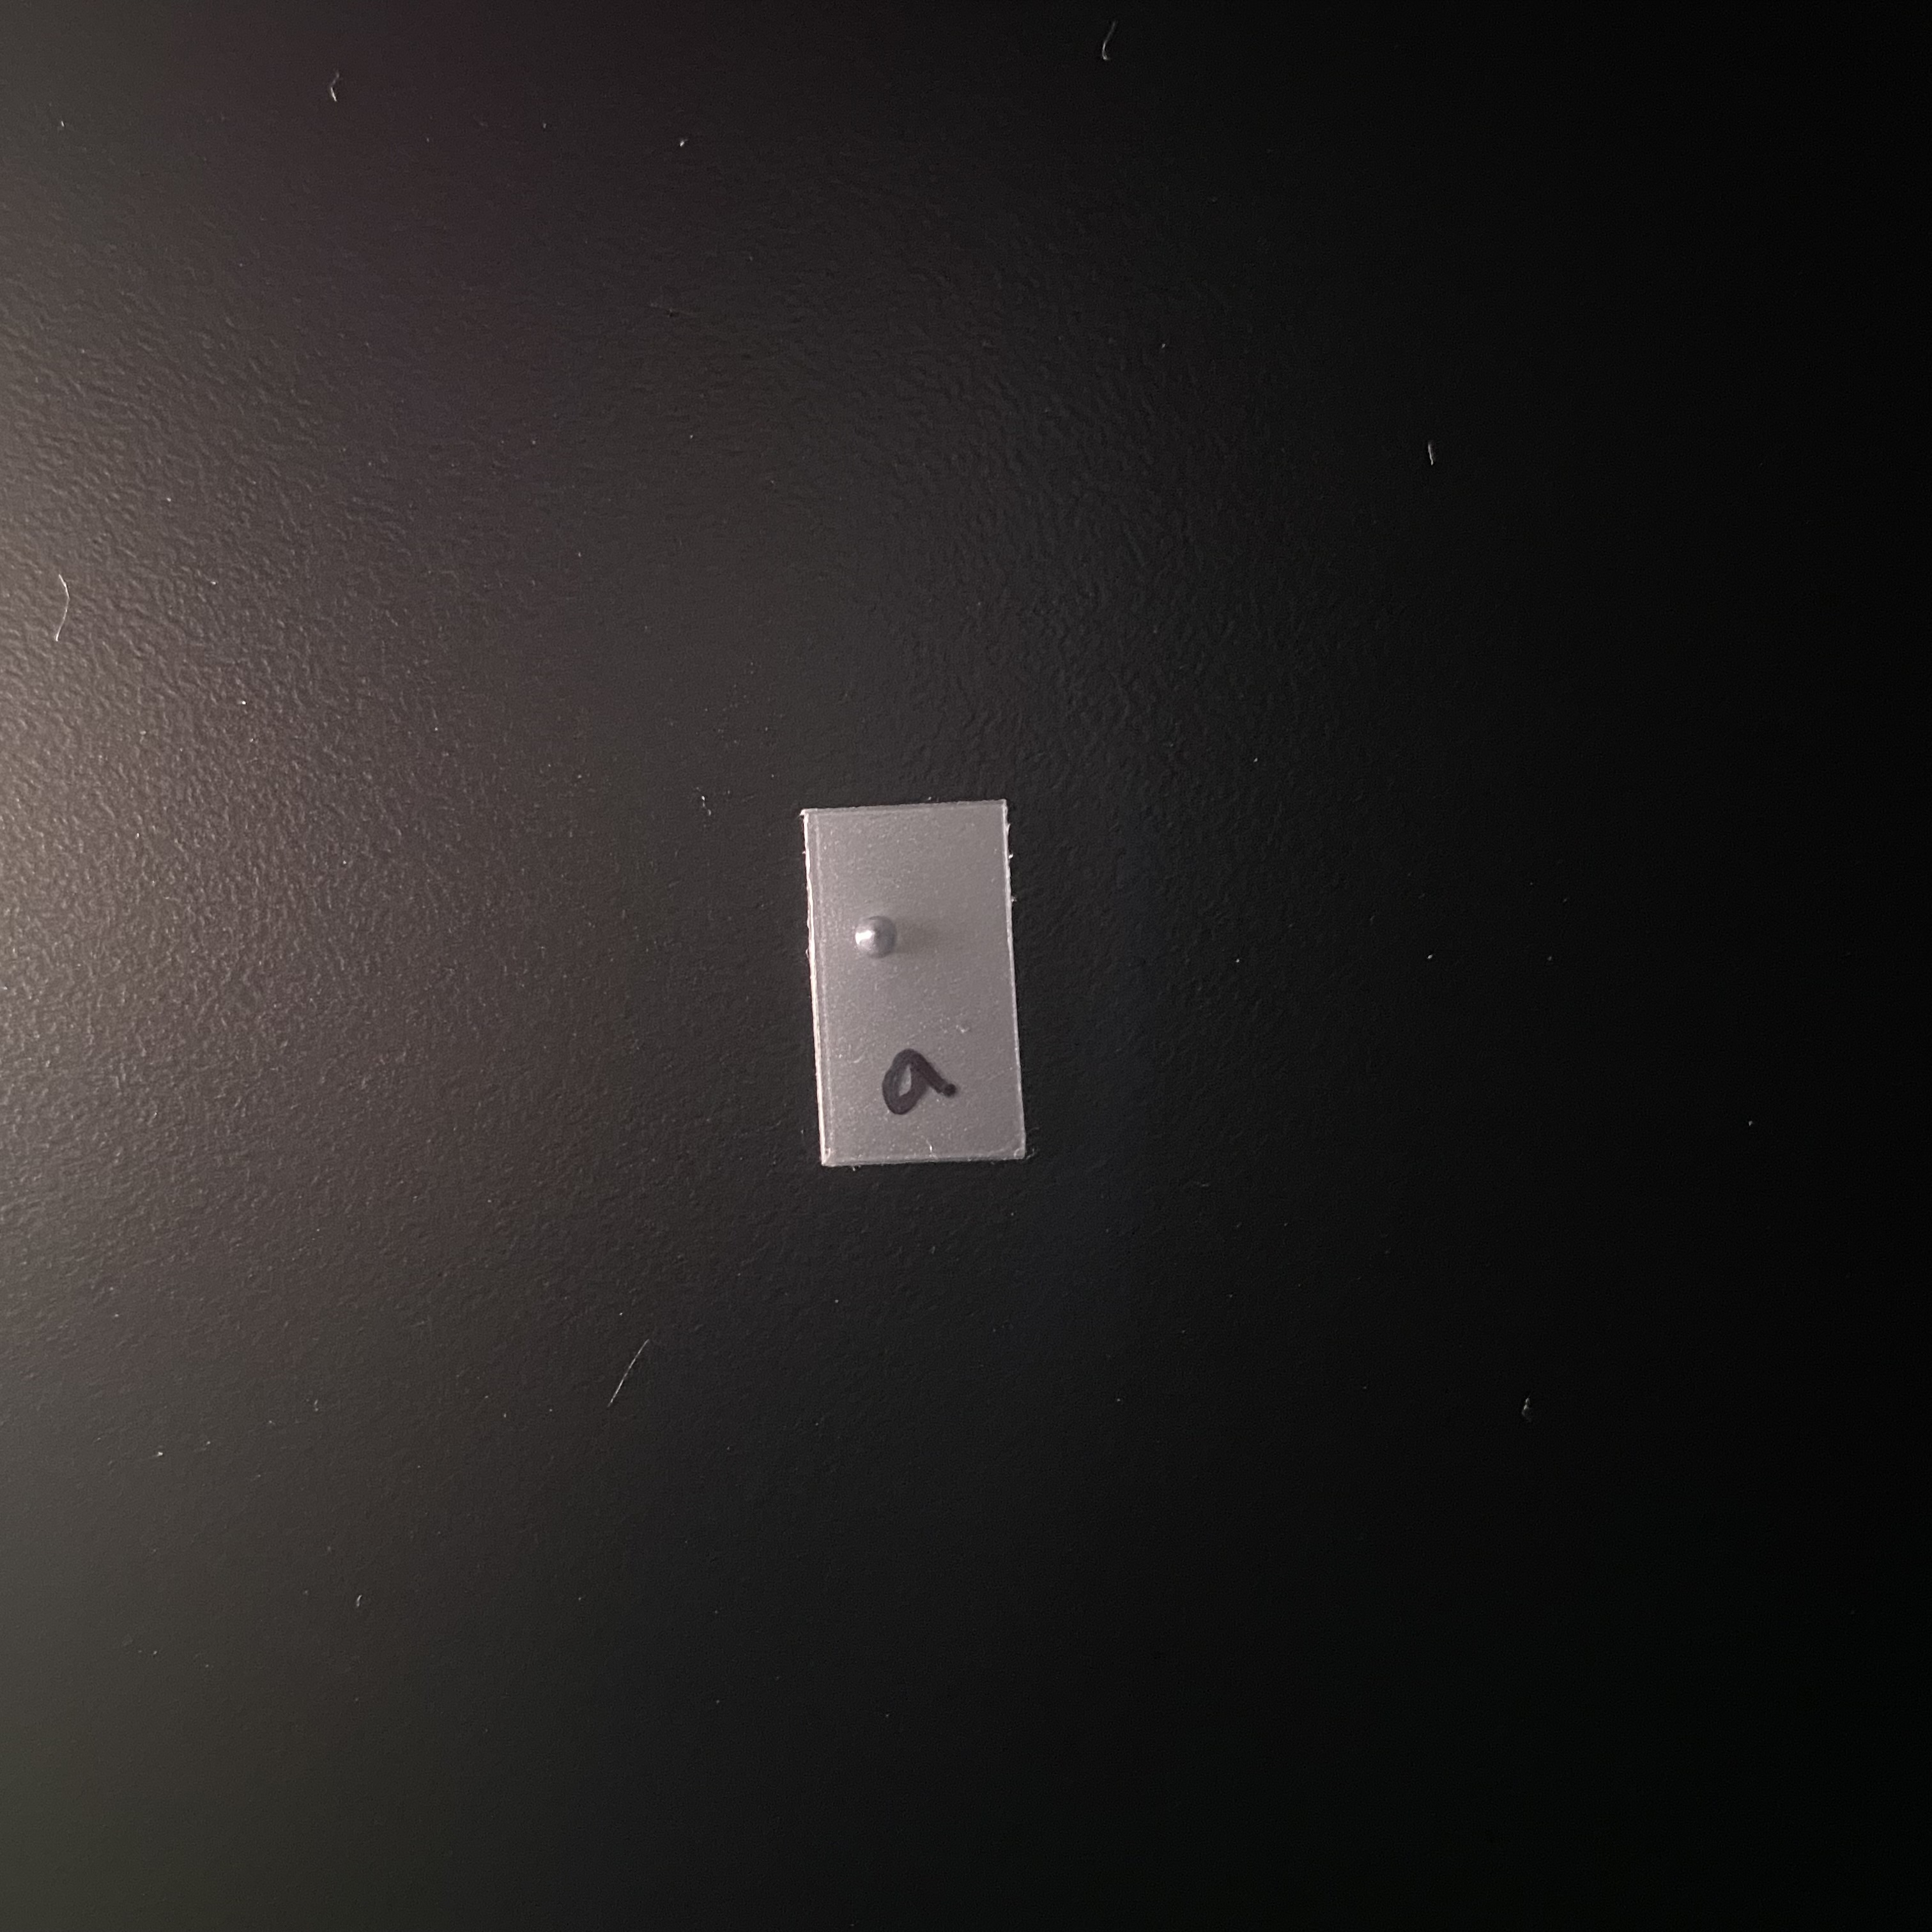a: (842, 881, 988, 1103)
